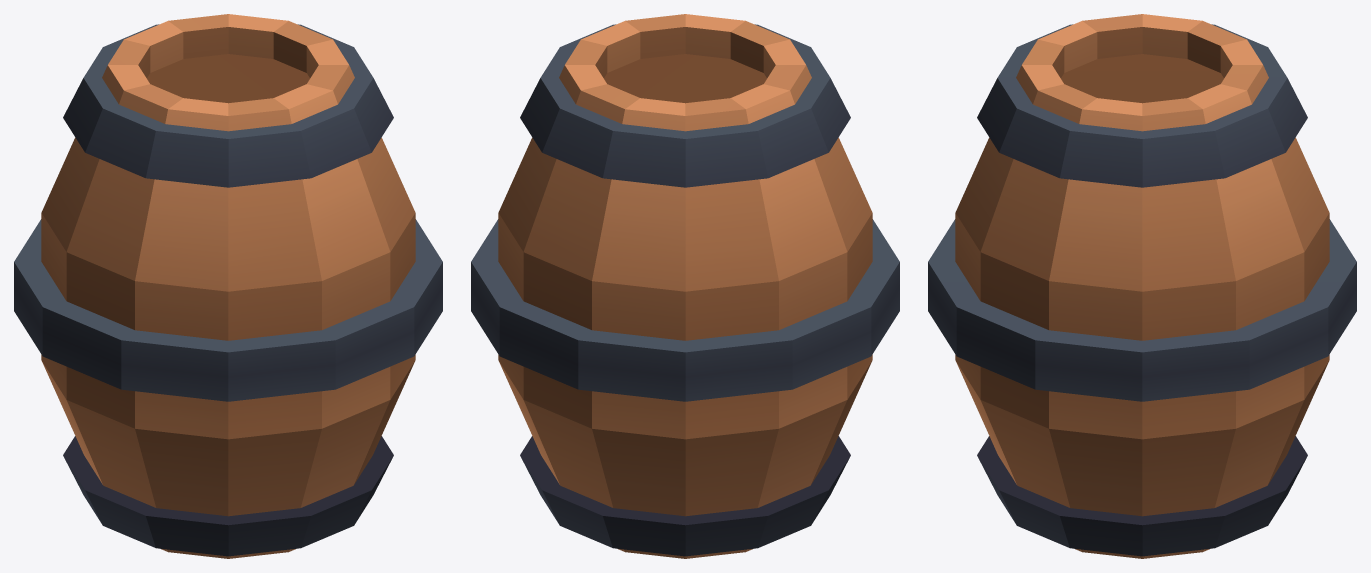
File: mt_prop_barell01.fbx
3 renders of one model, left to right at view 1: azimuth 30°, elevation 25°; view 2: azimuth 150°, elevation 25°; view 3: azimuth 270°, elevation 25°, orthographic.
Parts seen in each view (by area): view 1: prop_barel00; view 2: prop_barel00; view 3: prop_barel00.
Boxes of the visible parts, x1,y1,x2,y2 form: prop_barel00: (14,14,442,558); prop_barel00: (471,14,899,558); prop_barel00: (928,14,1356,558).
Bounding box in the file's own units: 89.65 × 102 × 89.65.
